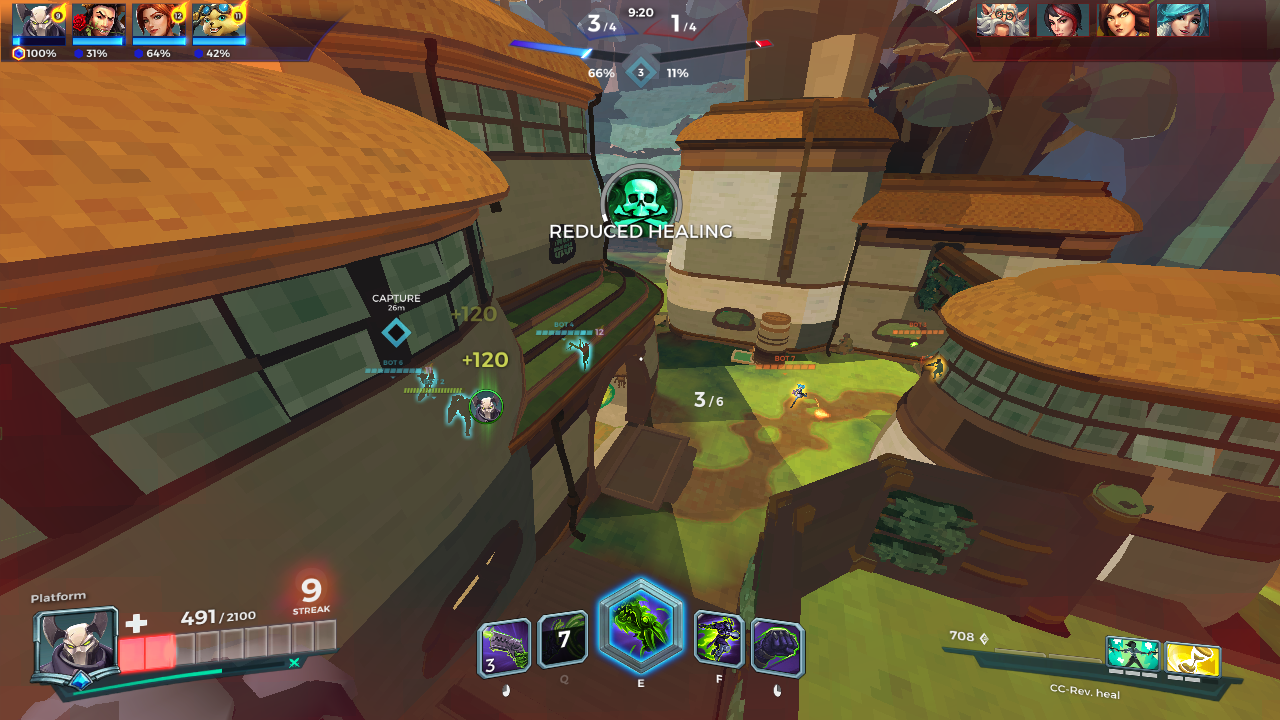model: (784, 375, 810, 411), (933, 356, 947, 385)
